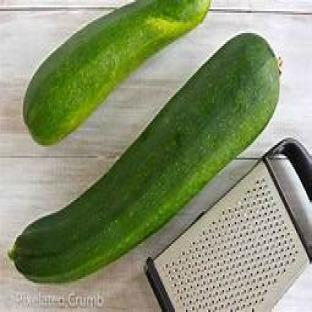Zucchini: (10, 34, 278, 282)
